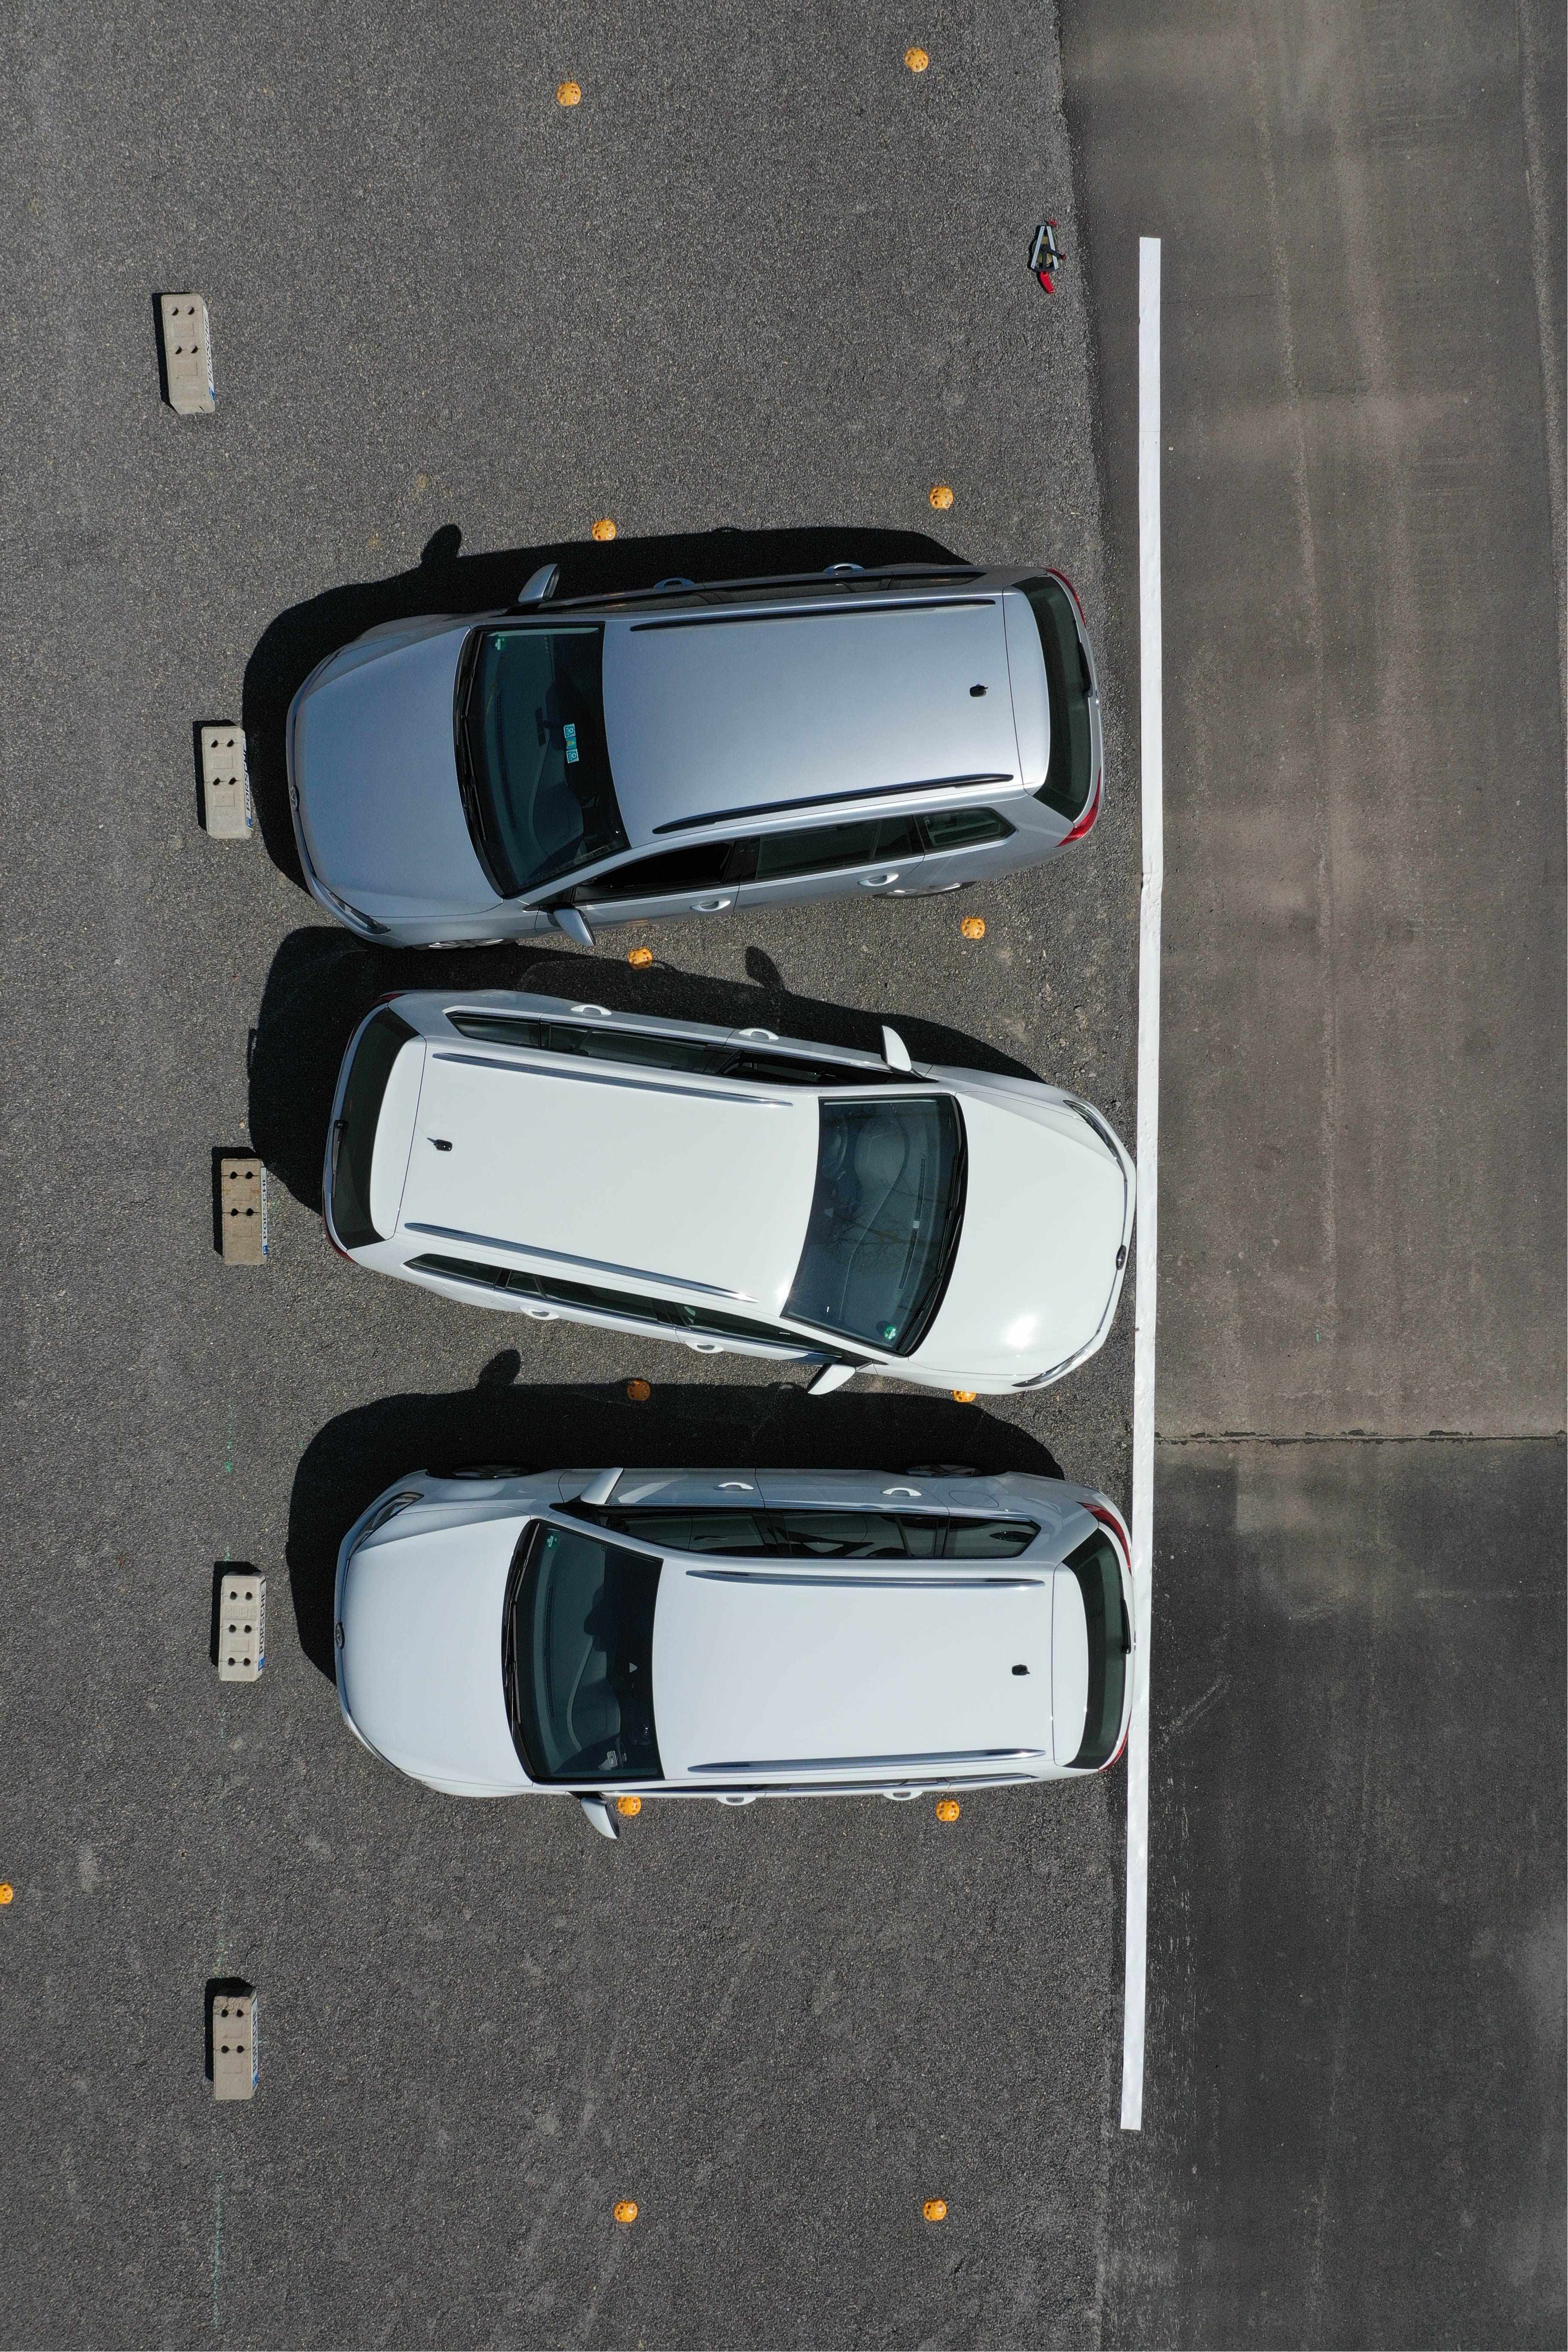Car: (254, 537, 1113, 969), (322, 989, 1143, 1414), (301, 1461, 1137, 1829)
LaneMark: (1113, 220, 1178, 2140)
